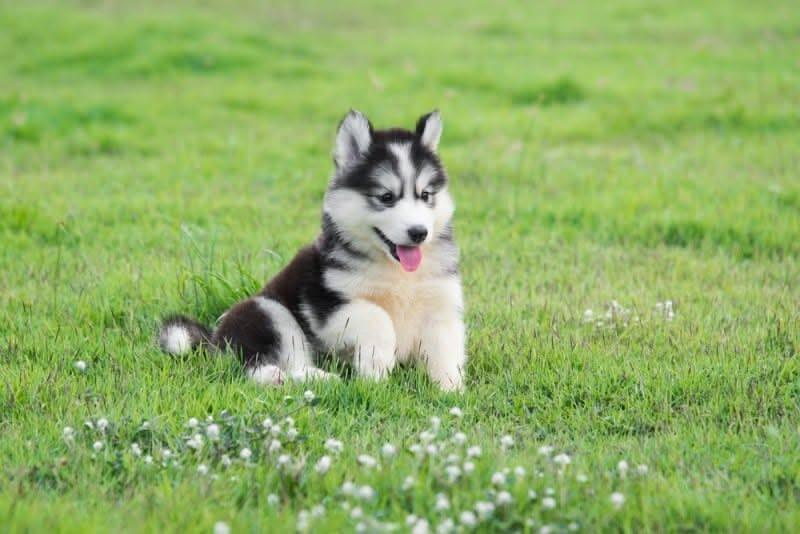puppy-dog: (151, 106, 472, 399)
